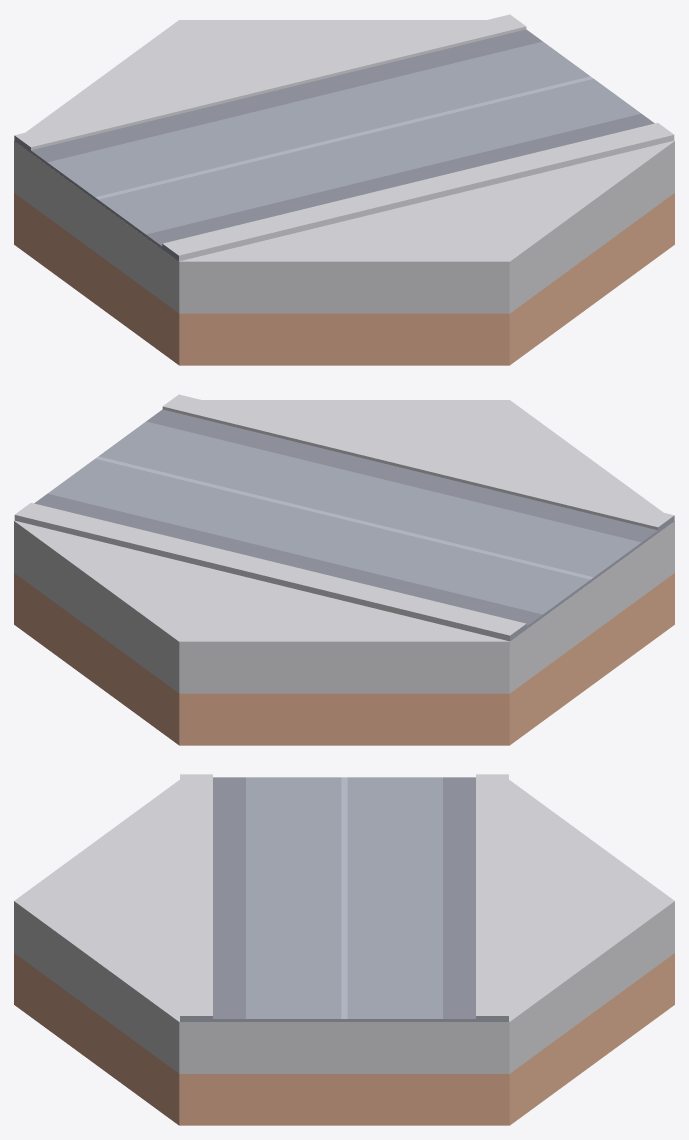
Rendered from straight_road_hex.fbx.
3 renders of one model, top to bottom at view 1: azimuth 30°, elevation 25°; view 2: azimuth 150°, elevation 25°; view 3: azimuth 270°, elevation 25°, orthographic.
Parts seen in each view (by area): view 1: straight_road, road_straight; view 2: straight_road, road_straight; view 3: straight_road, road_straight.
Boxes of the visible parts, box(x1,y1,x2,y2) form: straight_road: box(14, 20, 674, 365); road_straight: box(14, 14, 674, 261); straight_road: box(14, 400, 674, 745); road_straight: box(14, 394, 674, 641); straight_road: box(14, 780, 674, 1125); road_straight: box(180, 774, 508, 1021).
Bounding box in the file's own units: 100 × 21.12 × 115.
